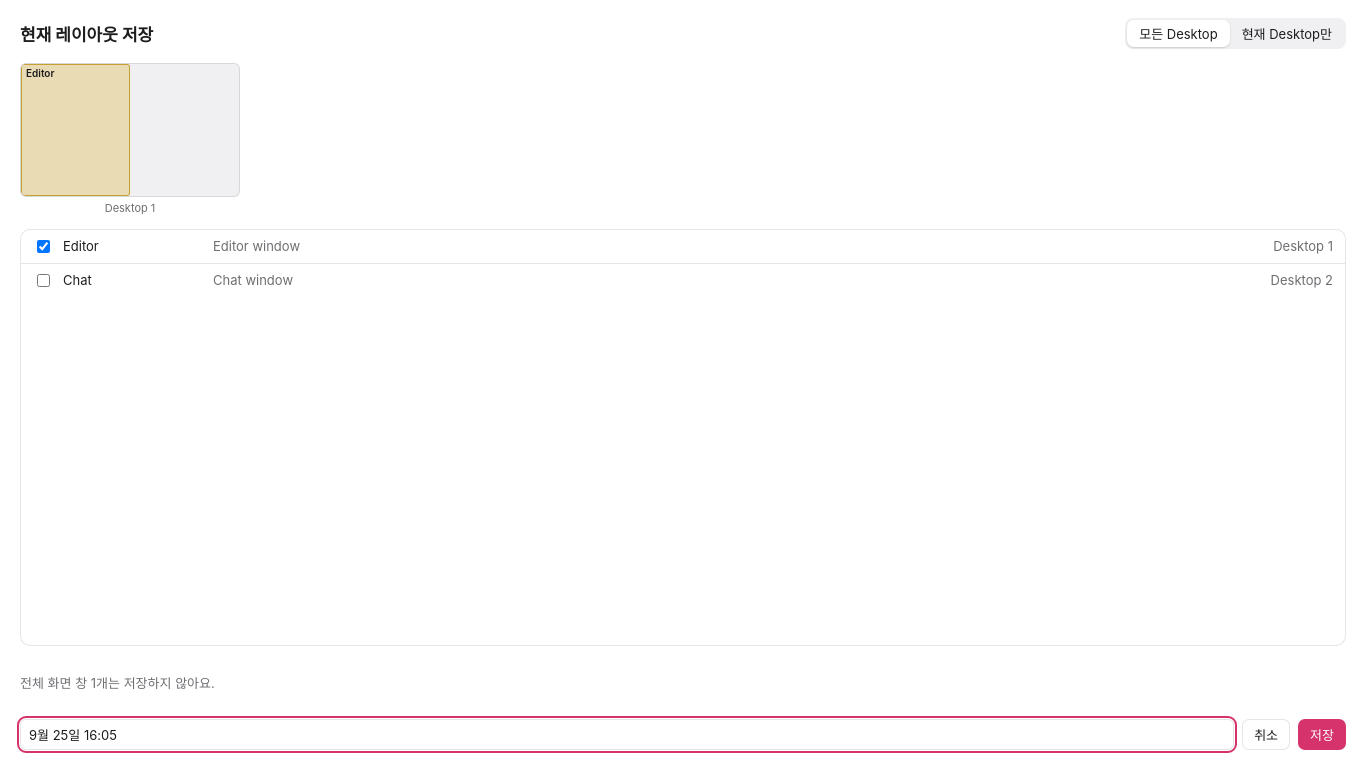
SaveHudApp › recaptures when the scope changes and reports failures
This screenshot has width=1366, height=768.
expect the checkbox labelled "Editor Editor window Desktop 1" is shown: met, box x1=37 y1=240 x2=50 y2=253
Click the radio button labelled "현재 Desktop만" at (1287, 34), box x1=1230 y1=20 x2=1344 y2=47
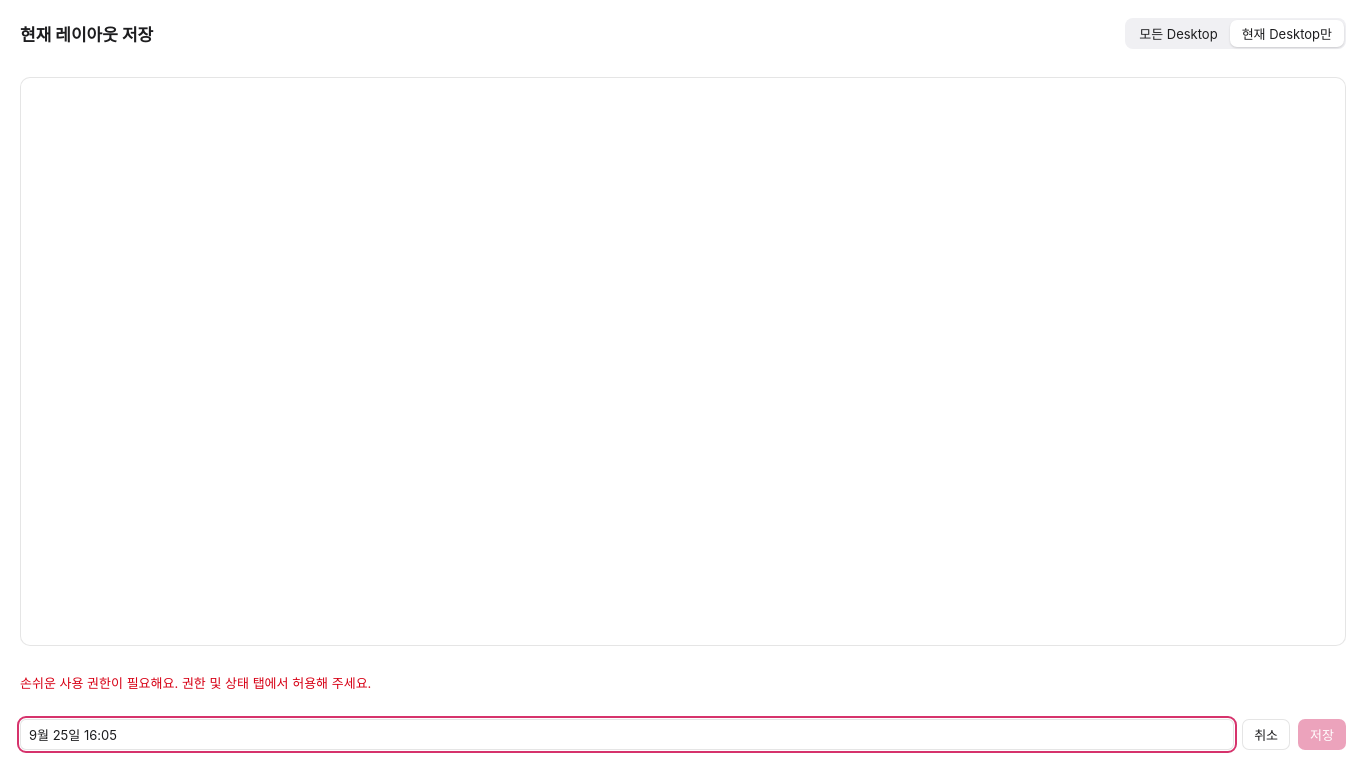
expect the message shows "손쉬운 사용 권한이 필요해요": met, box x1=20 y1=675 x2=371 y2=691
